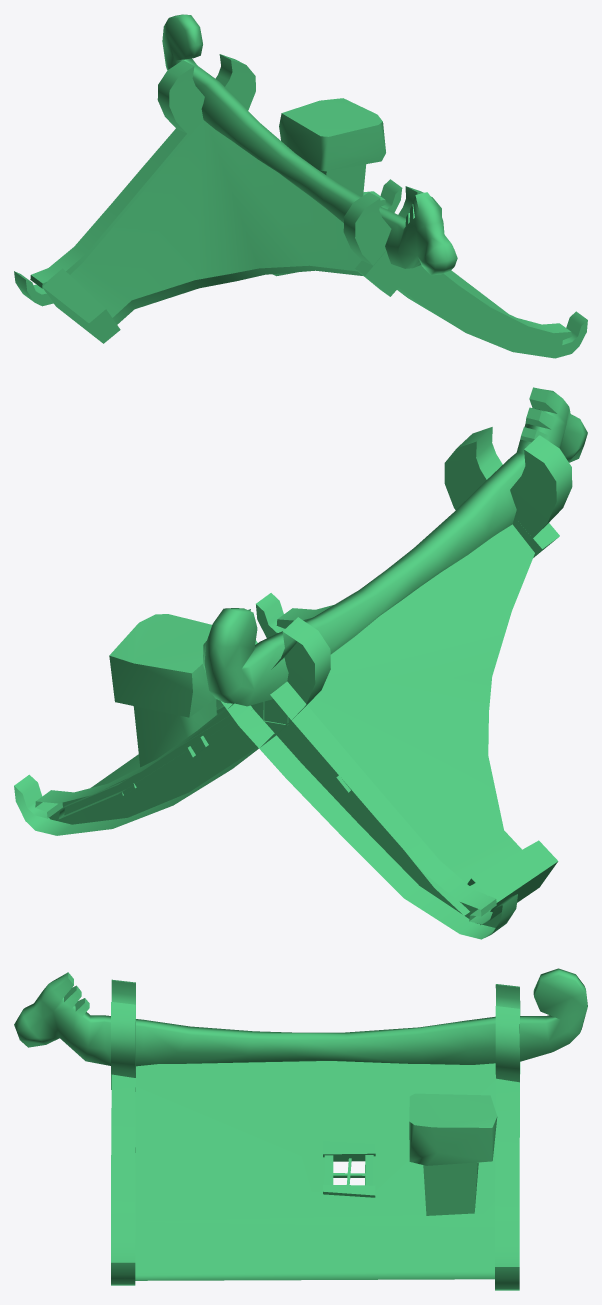
Rendered from roof 1.fbx.
3 views of the same model, one above another, from view 1: azimuth 30°, elevation 25°; view 2: azimuth 150°, elevation 25°; view 3: azimuth 270°, elevation 25° (orthographic). The views are drawn at different scales.
Parts seen in each view (by area): view 1: roof_low; view 2: roof_low; view 3: roof_low.
Part boxes in pixels (x1=…): roof_low: x1=14, y1=14, x2=587, y2=358; roof_low: x1=14, y1=387, x2=587, y2=939; roof_low: x1=14, y1=968, x2=587, y2=1290.
Size of the model in its own units: 653 by 386 by 835.
